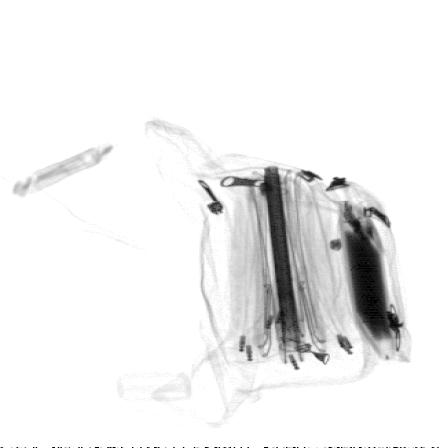Powerbank: (339, 200, 395, 361)
